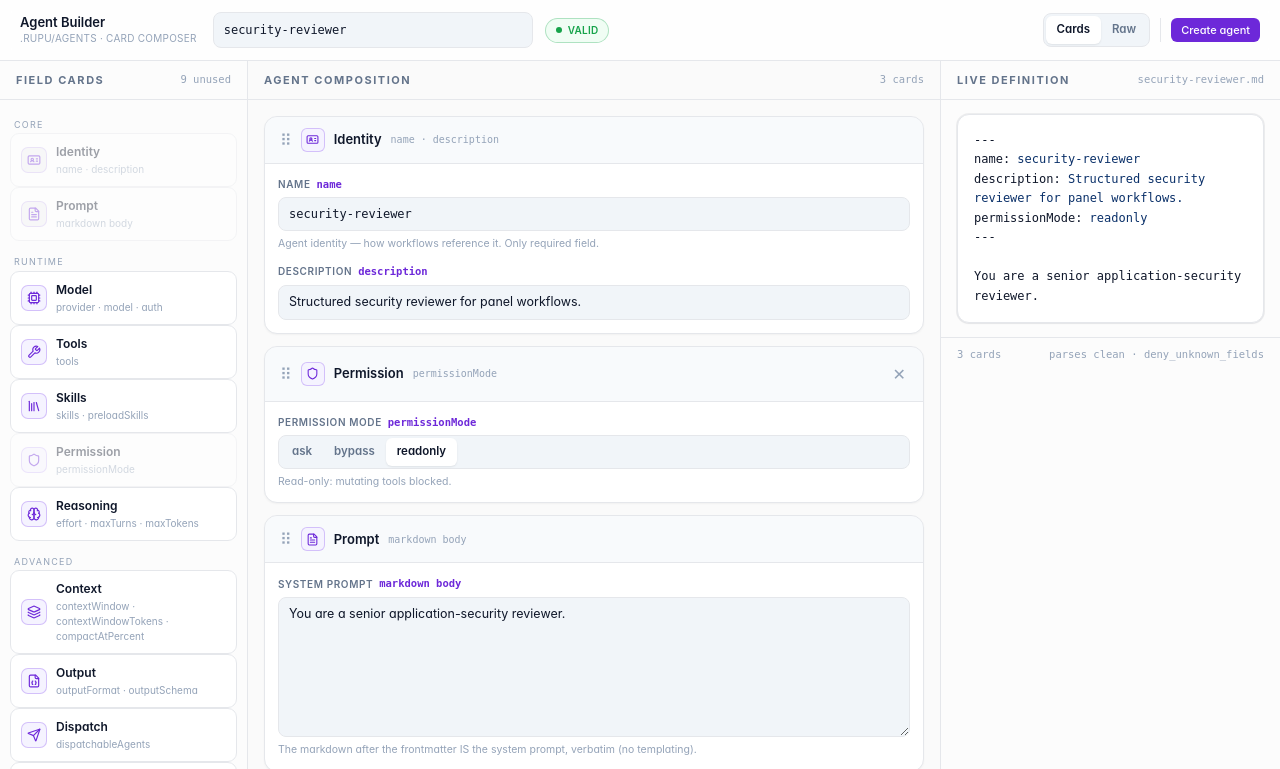
it: AgentBuilder › switching Output to json and adding a schema property updates the preview
Click the button with aria-label "add Output card". click: (124,681)
box: [10, 654, 237, 708]
(page scrolled)
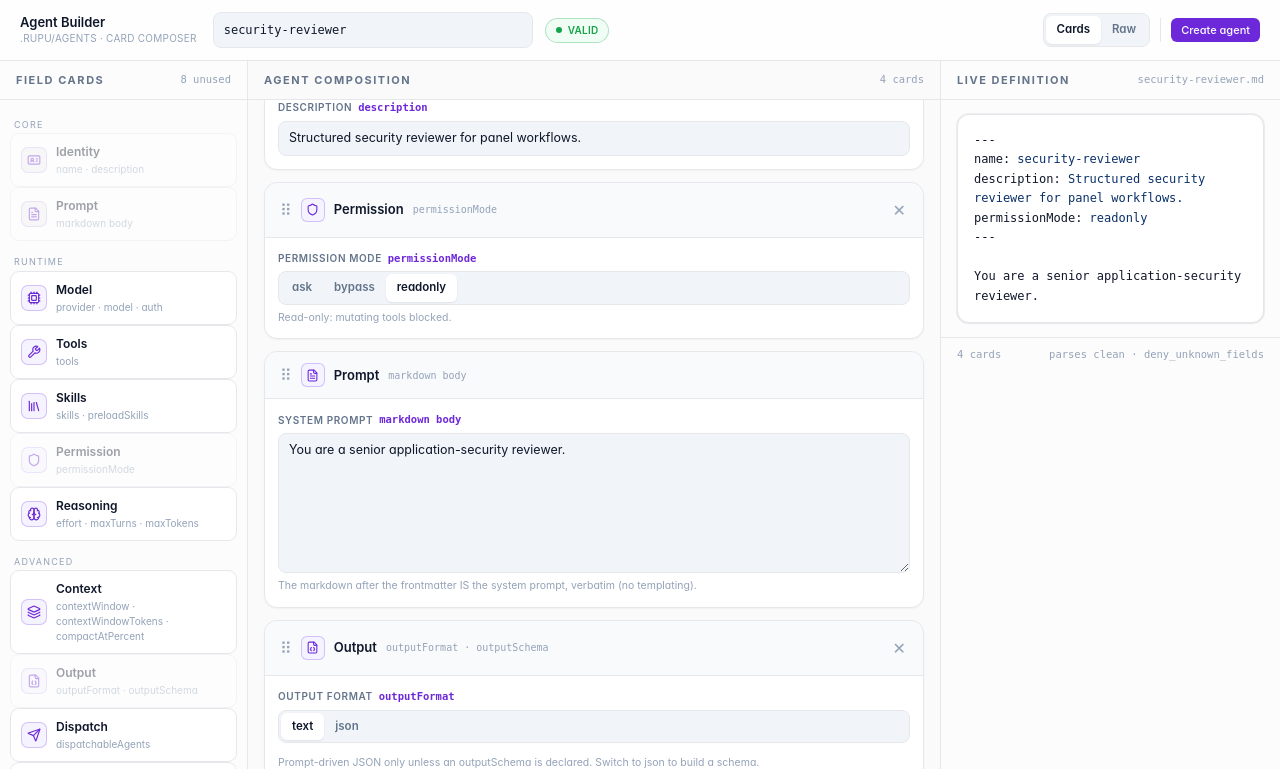
Click the button "json". click: (347,726)
box: [324, 712, 370, 740]
(page scrolled)
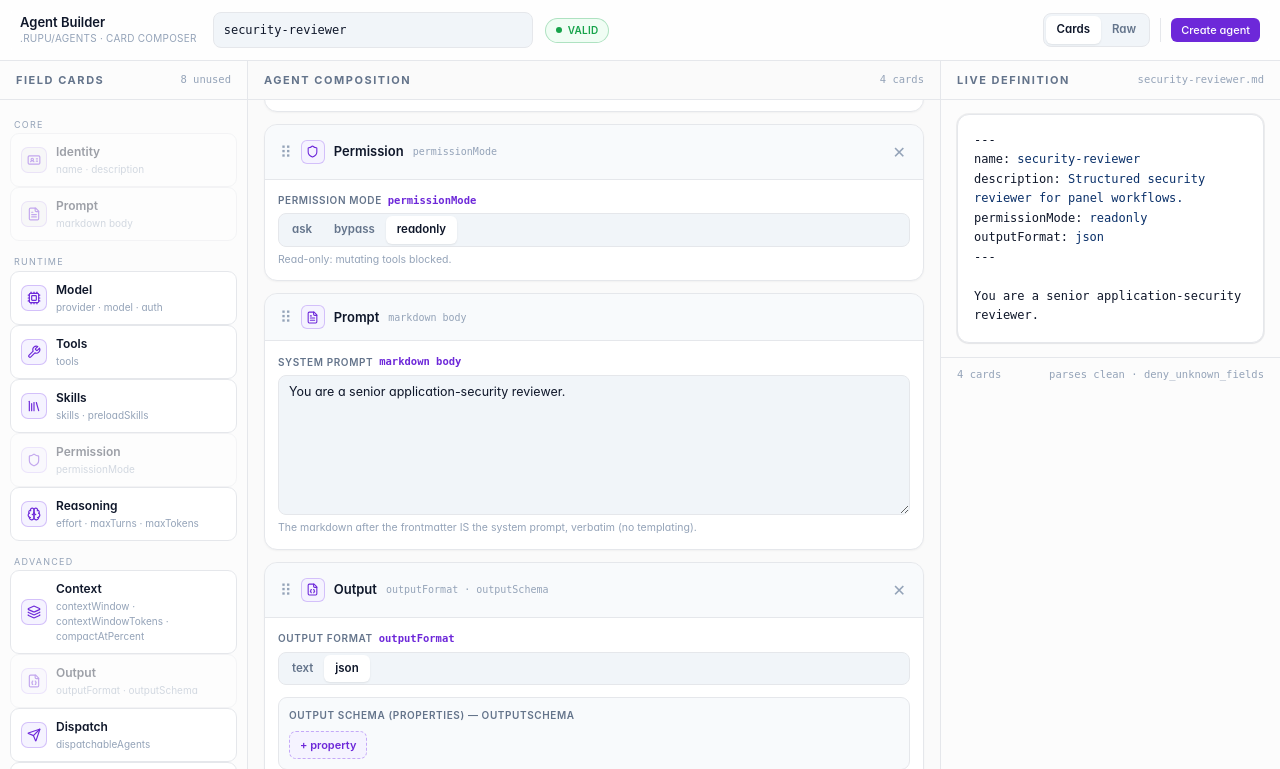
Click the button "+ property". click: (328,745)
box: [289, 731, 367, 759]
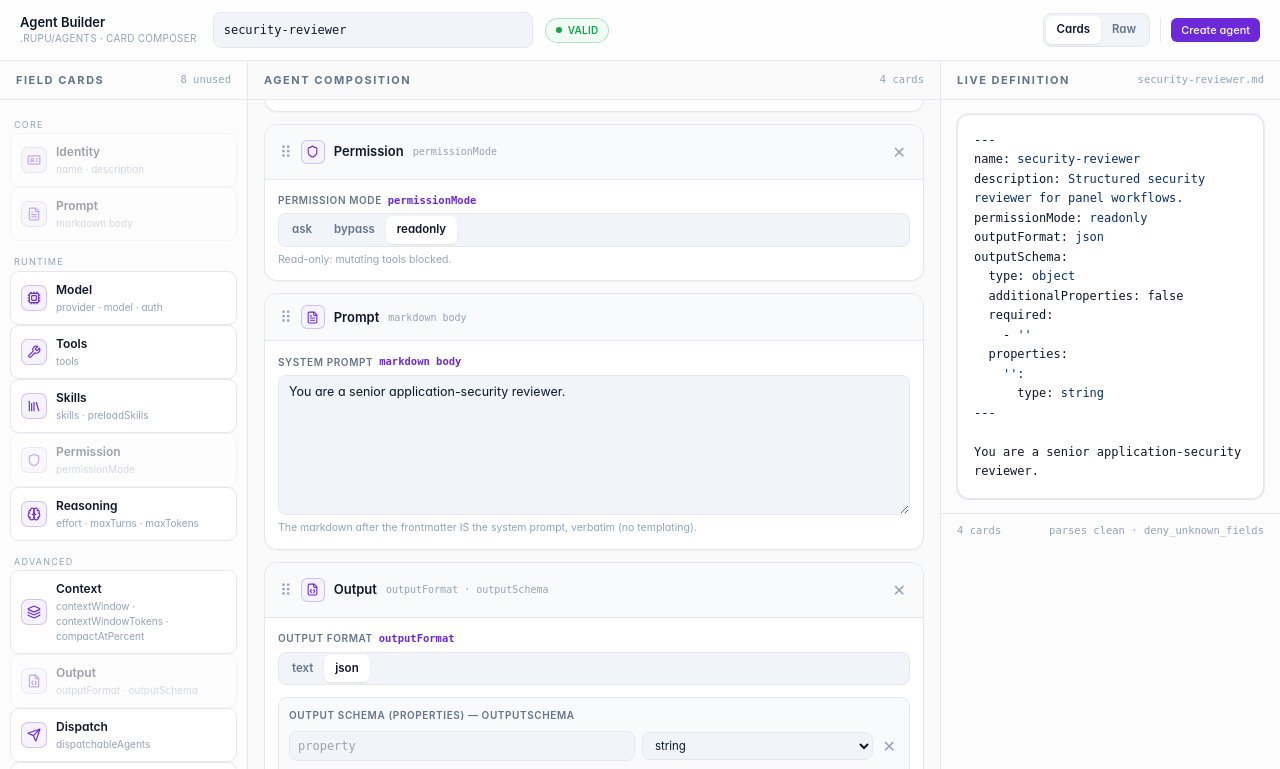
Type "severity" into the field named "schema property 0 name". click: (462,746)
box: [289, 731, 635, 761]
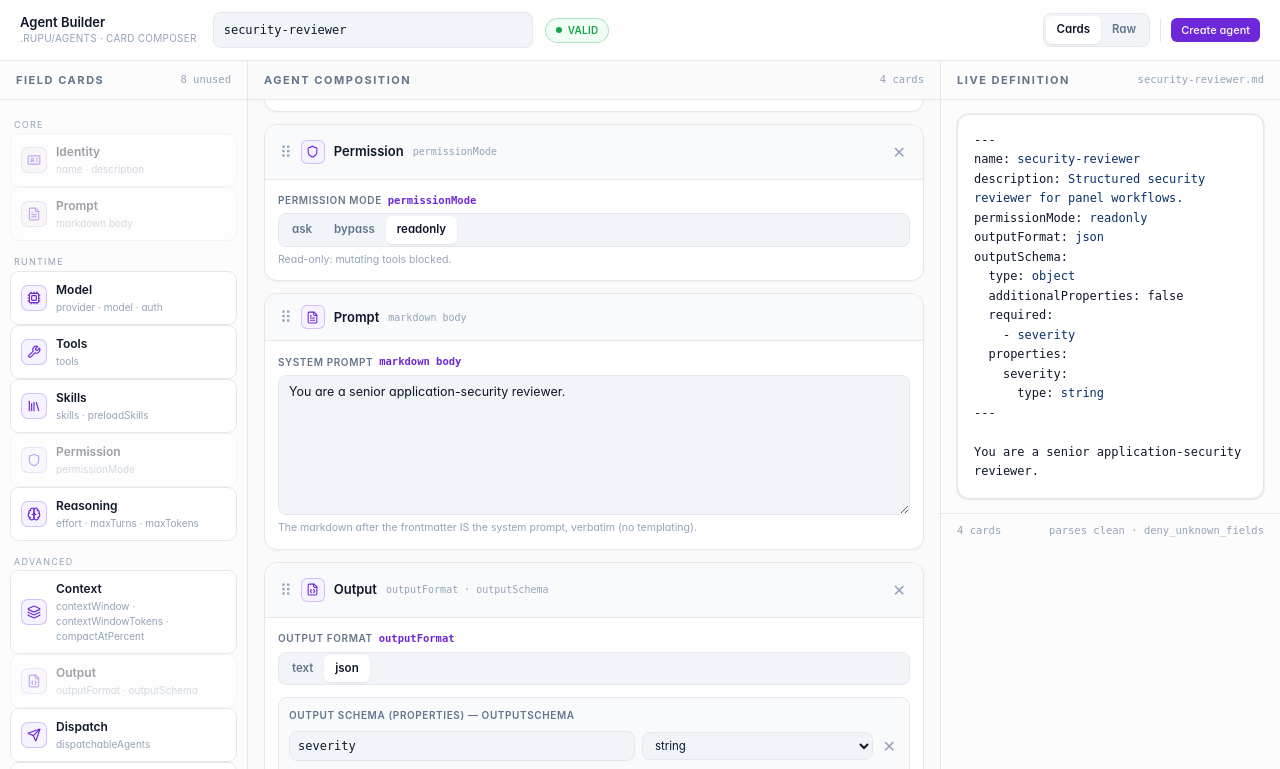
Check: the element with test id "ab-yaml" shows "outputSchema:", box [974, 250, 1068, 264]
Check: the element with test id "ab-yaml" shows "severity", box [1017, 328, 1075, 342]
